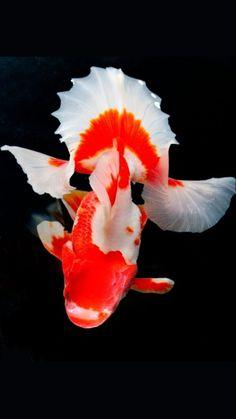goldfish: (18, 77, 218, 341)
